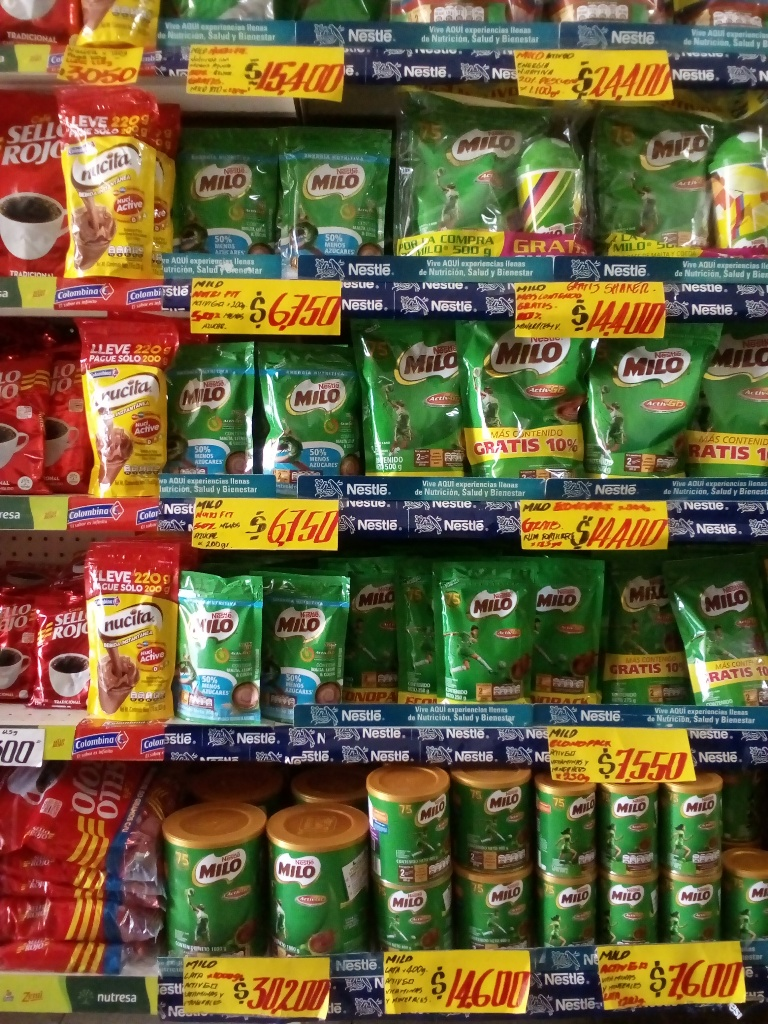COL0170203DYP25000: (345, 558, 397, 703)
COL0170203DYP50000: (359, 318, 468, 474)
COL0170203LAT20000: (536, 773, 594, 875)
COL0170203LAT40000: (370, 766, 448, 882)
COL0170205DYP20000: (175, 113, 286, 260)
